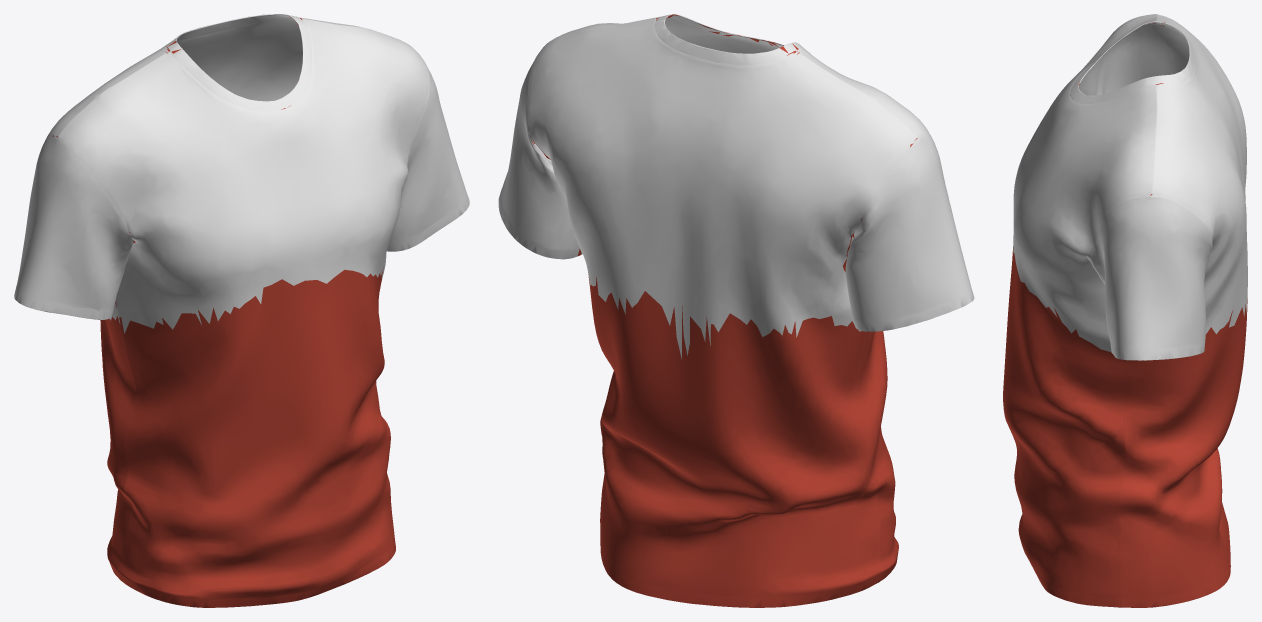
Rendered from shirt_top_down.glb.
The picture shows the model from 3 angles, left to right: view 1: azimuth 30°, elevation 25°; view 2: azimuth 150°, elevation 25°; view 3: azimuth 270°, elevation 25°; orthographic projection. The views are drawn at different scales.
Parts seen in each view (by area): view 1: T_Shirt_male; view 2: T_Shirt_male; view 3: T_Shirt_male.
Boxes of the visible parts, x1,y1,x2,y2 form: T_Shirt_male: (14, 14, 469, 607); T_Shirt_male: (498, 14, 974, 607); T_Shirt_male: (1003, 14, 1247, 607).
Bounding box in the file's own units: 0.5502 × 0.613 × 0.269.
